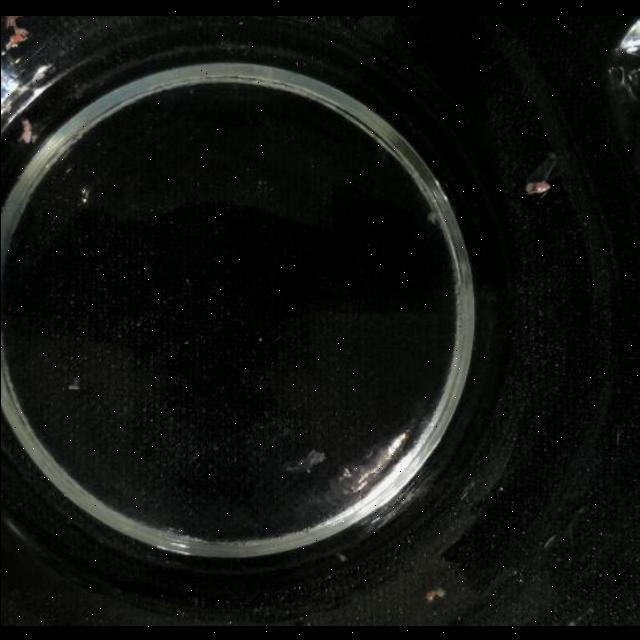Fragment: (0, 15, 36, 58), (525, 148, 551, 202), (16, 111, 38, 152)
microbeads: (419, 579, 449, 605), (67, 382, 79, 390), (257, 335, 263, 341)
